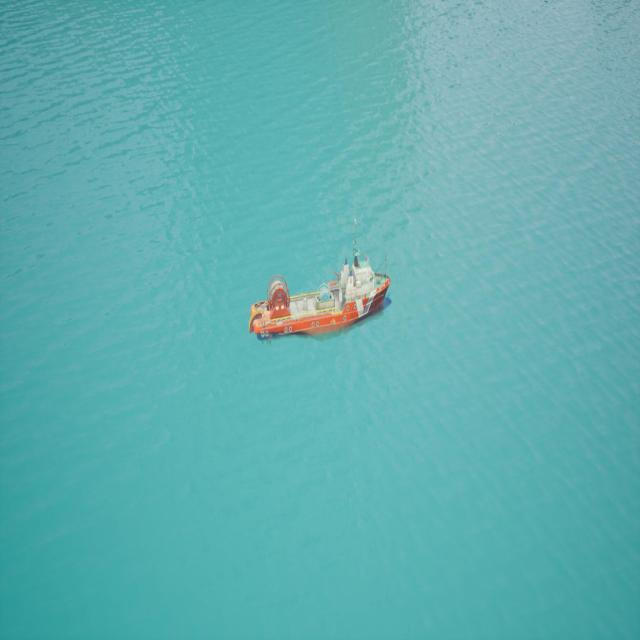tug boat: (240, 213, 416, 380)
